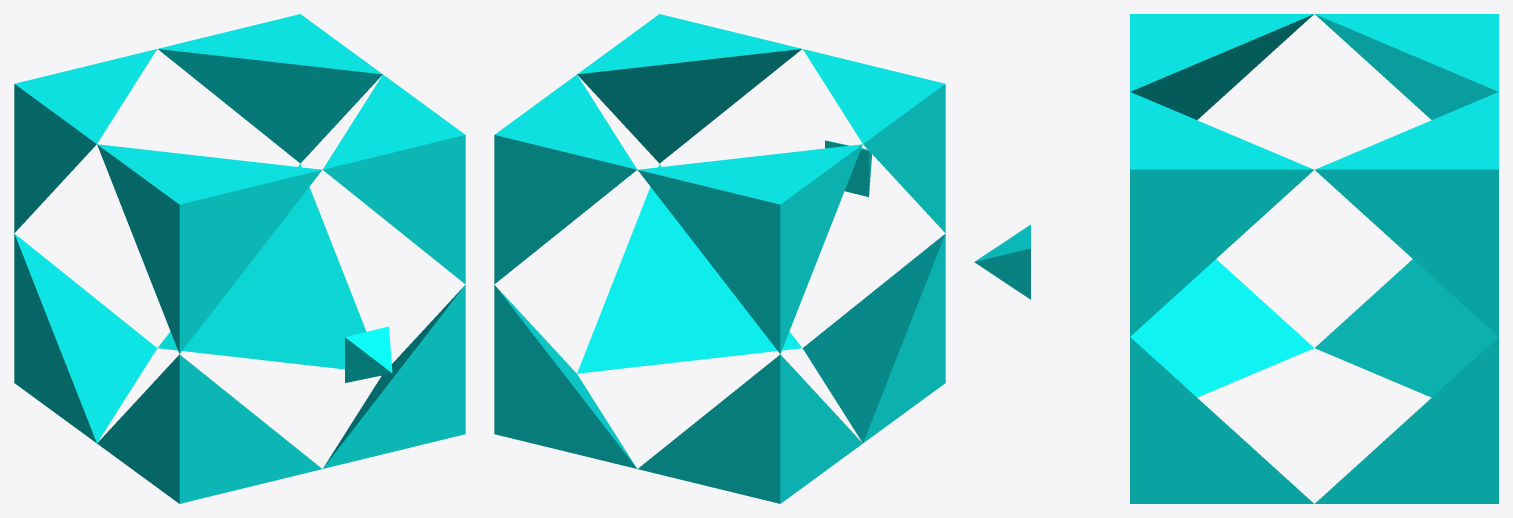
File: Artifact.fbx
3 renders of one model, left to right at view 1: azimuth 30°, elevation 25°; view 2: azimuth 150°, elevation 25°; view 3: azimuth 270°, elevation 25°, orthographic. The views are drawn at different scales.
Parts seen in each view (by area): view 1: Pyramid (×2); view 2: Pyramid (×2); view 3: Pyramid (×2).
Boxes of the visible parts, x1=… form: Pyramid (×2): x1=14, y1=14, x2=465, y2=503; Pyramid (×2): x1=494, y1=14, x2=945, y2=503; Pyramid (×2): x1=974, y1=14, x2=1498, y2=503.
Size of the model in its own units: 0.65 by 0.65 by 0.925.
Materials: 1 (1 with a texture image).
